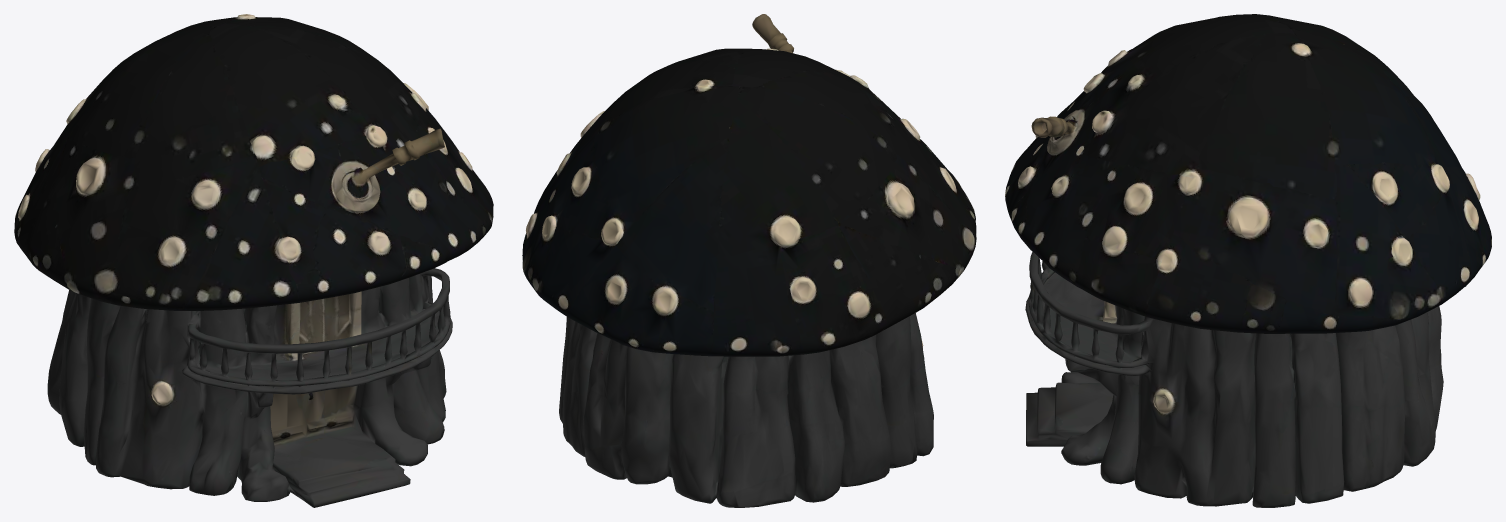
File: observatory.glb
The picture shows the model from 3 angles, left to right: view 1: azimuth 30°, elevation 25°; view 2: azimuth 150°, elevation 25°; view 3: azimuth 270°, elevation 25°; orthographic projection. The views are drawn at different scales.
Size of the model in its own units: 1.88 by 1.69 by 1.9.
1 material, 1 textured.
